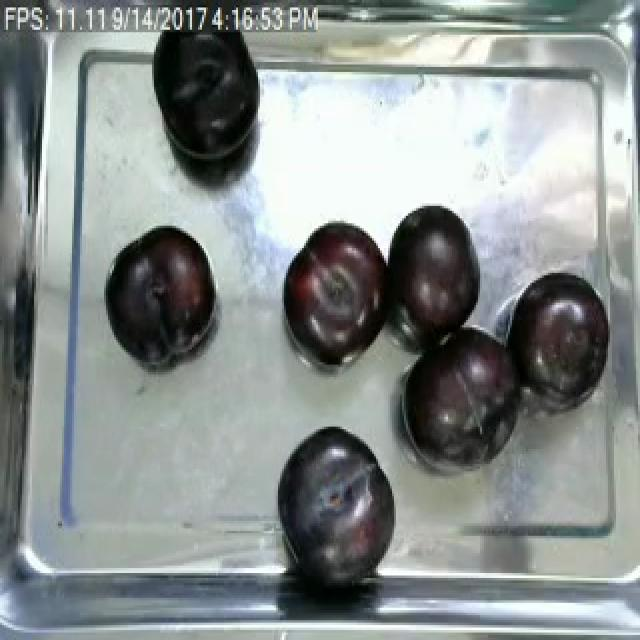Fruit: (268, 422, 402, 588), (394, 317, 532, 464), (276, 216, 392, 370), (144, 25, 266, 171), (100, 221, 222, 362), (504, 268, 616, 402), (384, 201, 486, 337)
